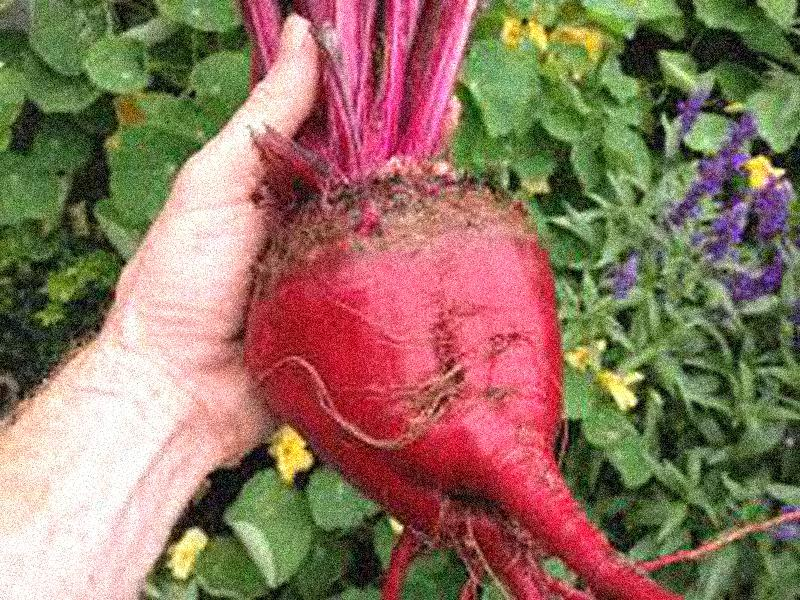Beet: (244, 3, 672, 600)
